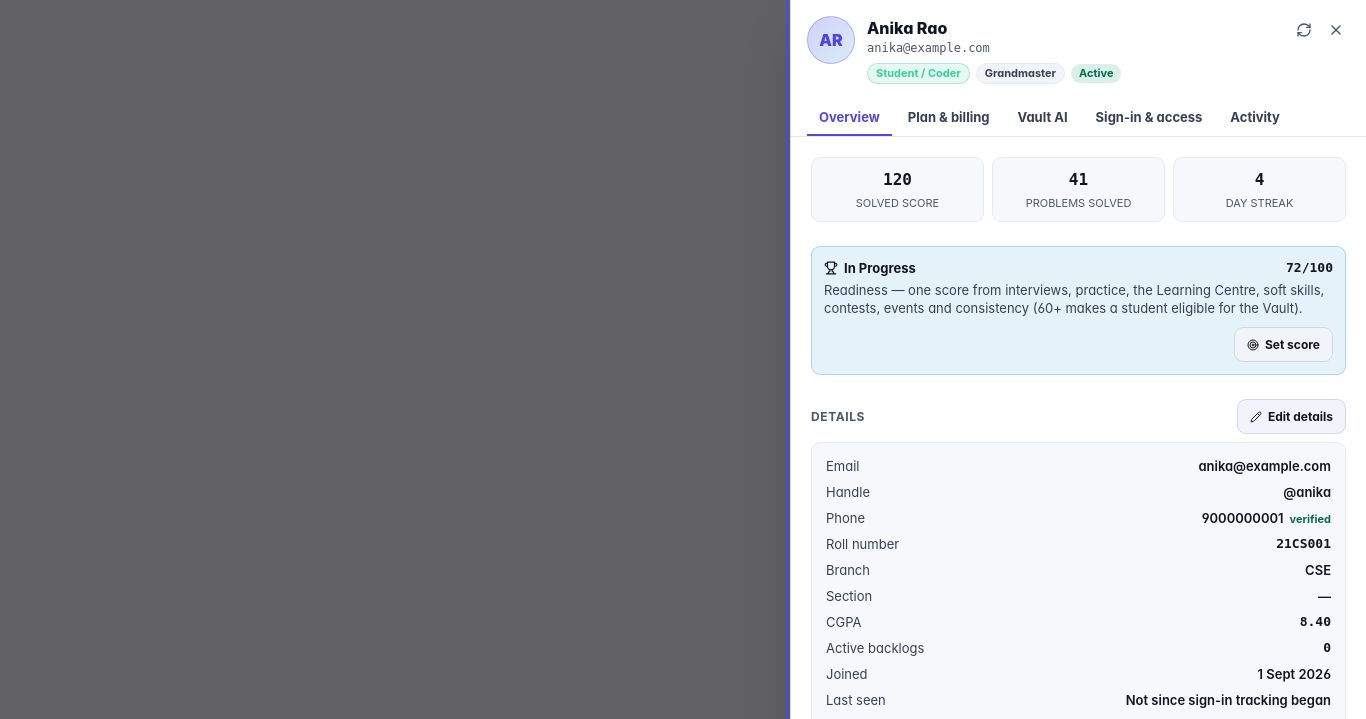
Test: Overview — correcting details › has nothing to save until something changes, and warns that an email is a login
Expected: the heading "Anika Rao" is shown, [867,18,947,38]
Click the button "Edit details": (1291, 416) [1237,399,1346,434]
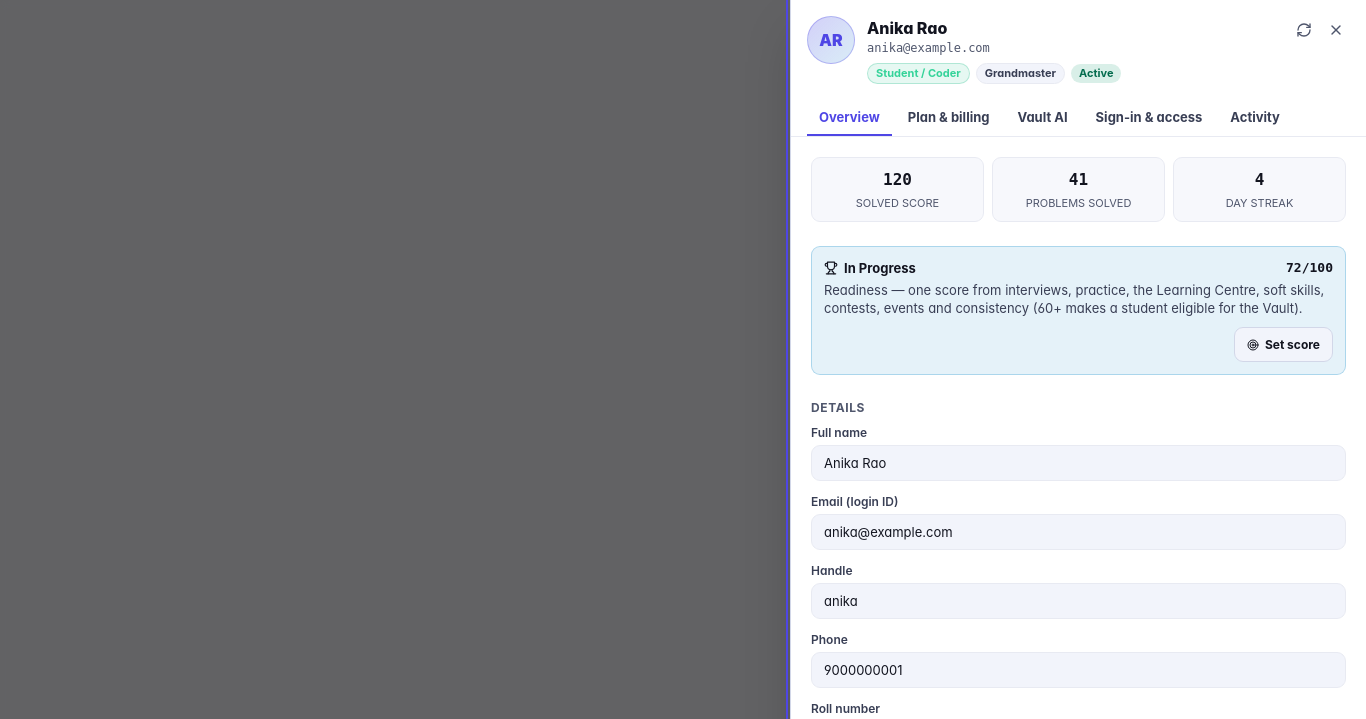
Replace the text in the field labelled "Email (login ID)" with "anika@new.test": (1078, 532) [811,514,1346,550]
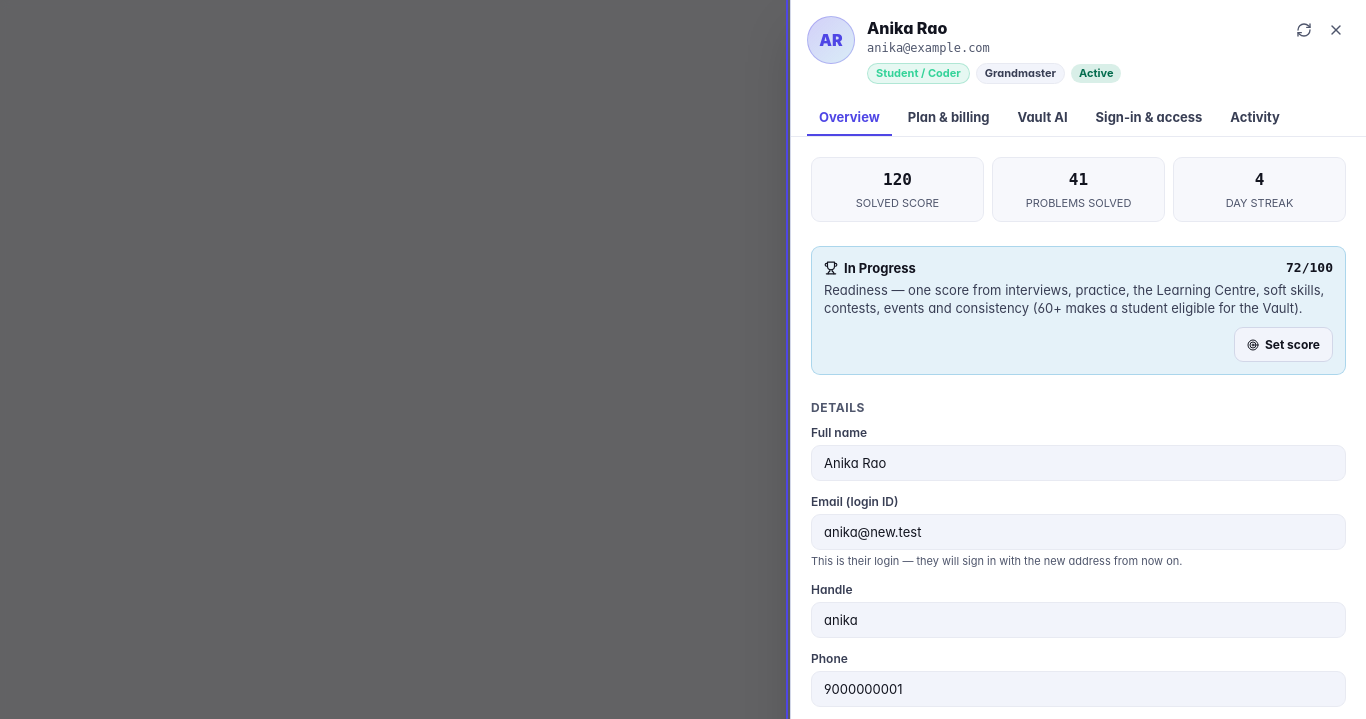
Expected: the text "This is their login" is shown, [811,554,1182,568]
